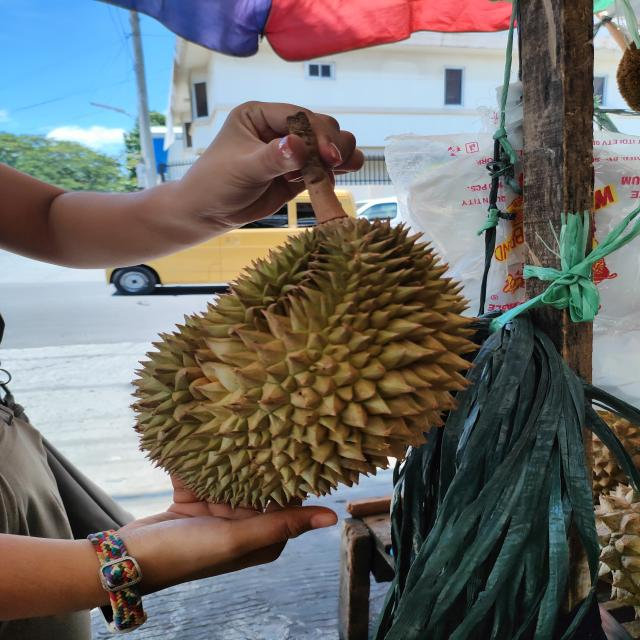mature: (126, 215, 486, 514)
